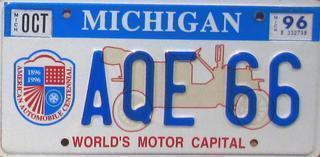placa de veiculo: (4, 1, 318, 157)
